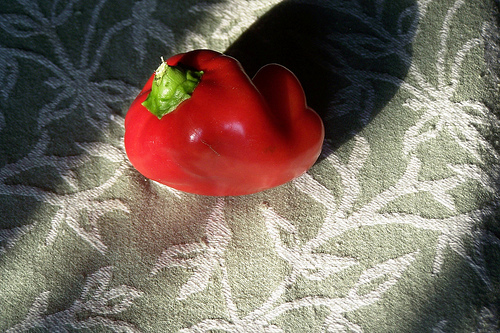capsicum: (125, 50, 325, 197)
